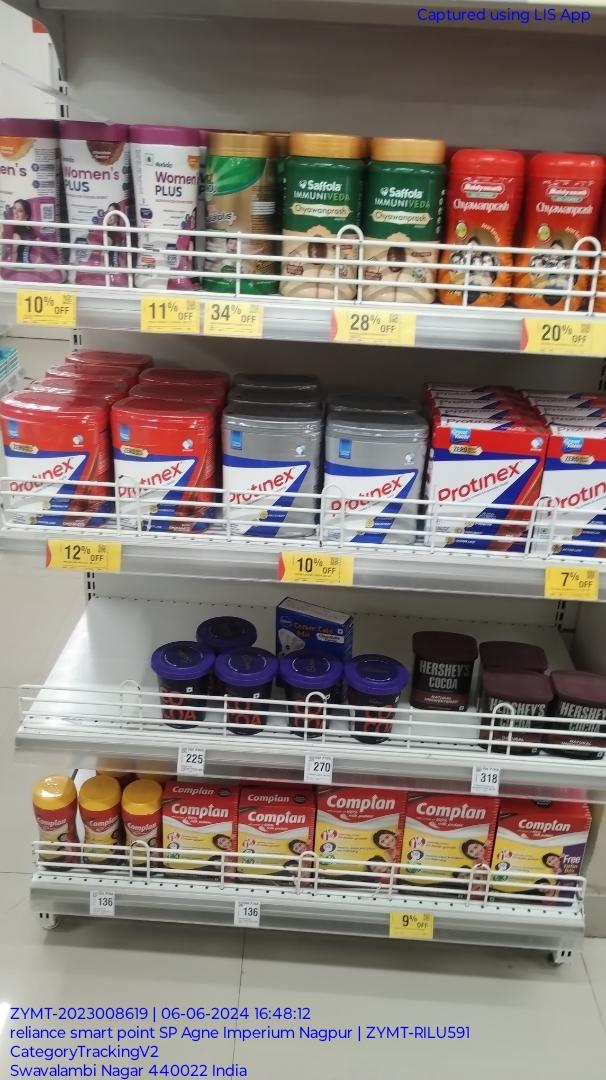COMPLAN_CHOCOLATE_1_KG_PACK: (320, 784, 400, 899), (405, 793, 490, 901)
COMPLAN_CHOCOLATE_500_GMS_JAR: (32, 799, 75, 873), (80, 799, 120, 875), (124, 799, 158, 879)
COMPLAN_CHOCOLATE_500_GMS_PACK: (238, 807, 313, 886), (163, 804, 235, 881)
PROTINEX_CHOCOLATE_400_G_JAR: (2, 406, 103, 536), (114, 404, 207, 537)
PROTINEX_ORIGINAL_400_G_JAR: (223, 418, 317, 541), (322, 428, 419, 547)
